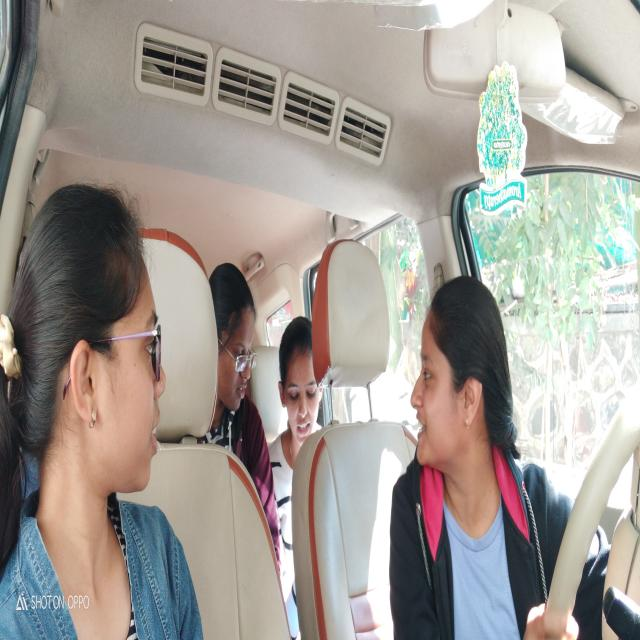LeftRight: (68, 212, 166, 497), (408, 296, 501, 463)
person: (219, 271, 256, 418), (280, 325, 320, 436)
talking: (150, 414, 164, 457), (414, 411, 428, 443)
